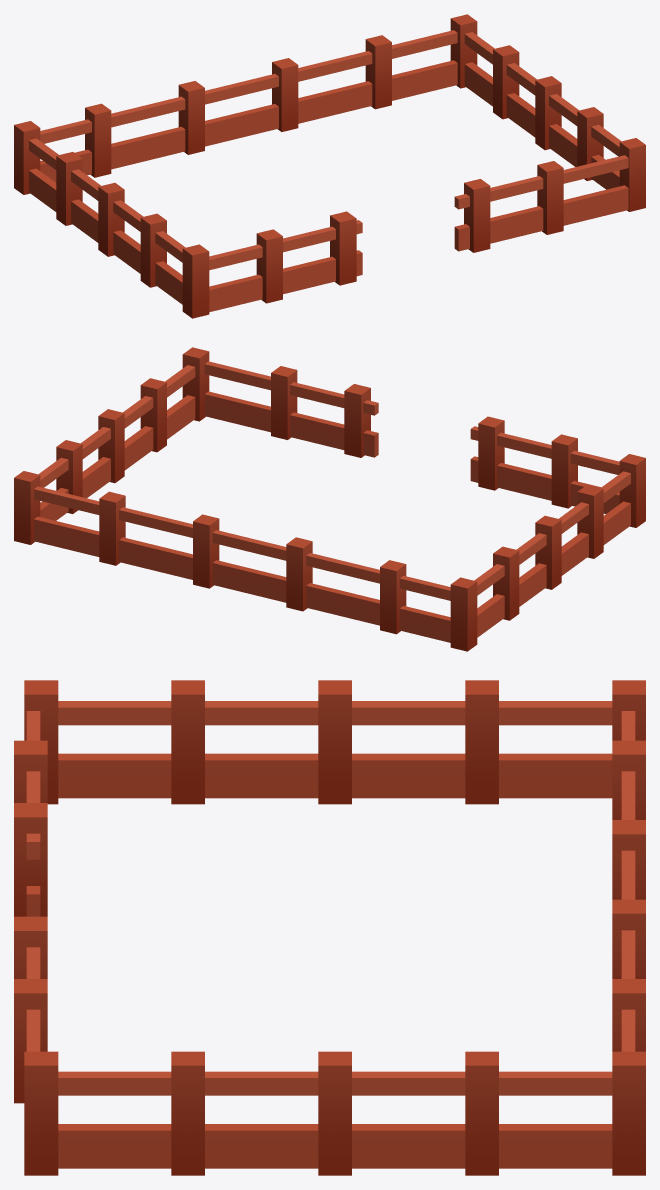
Rendered from Shrine_Fence.gltf.
3 renders of one model, top to bottom at view 1: azimuth 30°, elevation 25°; view 2: azimuth 150°, elevation 25°; view 3: azimuth 270°, elevation 25°, orthographic. The views are drawn at different scales.
Visible parts, largest first — view 1: Shrine_Fence; view 2: Shrine_Fence; view 3: Shrine_Fence.
Boxes of the visible parts, x1,y1,x2,y2 form: Shrine_Fence: (14, 14, 645, 318); Shrine_Fence: (14, 347, 645, 651); Shrine_Fence: (14, 680, 645, 1175).
Size of the model in its own units: 6.77 by 0.9 by 4.69.
Materials: 1 (1 with a texture image).
